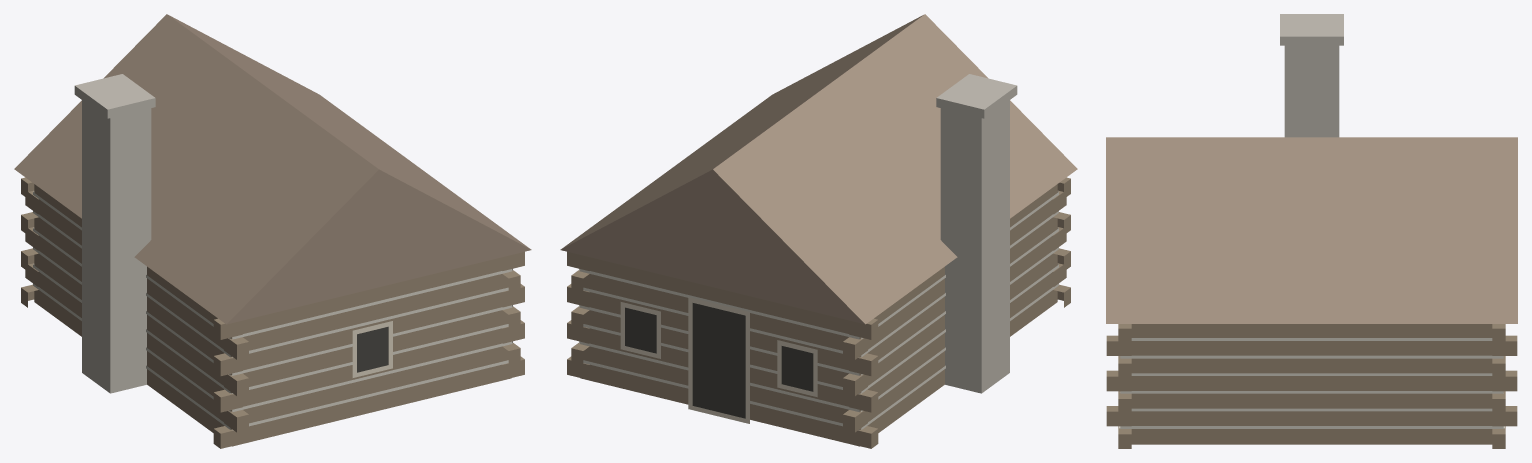
File: recon_1835_west_001__inferred_1835.glb
The picture shows the model from 3 angles, left to right: view 1: azimuth 30°, elevation 25°; view 2: azimuth 150°, elevation 25°; view 3: azimuth 270°, elevation 25°; orthographic projection. The views are drawn at different scales.
Parts seen in each view (by area): view 1: recon_1835_west_001__inferred_1835; view 2: recon_1835_west_001__inferred_1835; view 3: recon_1835_west_001__inferred_1835.
Part boxes in pixels (x1,y1,x2,y2): recon_1835_west_001__inferred_1835: [14, 14, 531, 448]; recon_1835_west_001__inferred_1835: [560, 14, 1077, 448]; recon_1835_west_001__inferred_1835: [1106, 14, 1517, 448].
Bounding box in the file's own units: 6.56 × 5.44 × 7.21.
